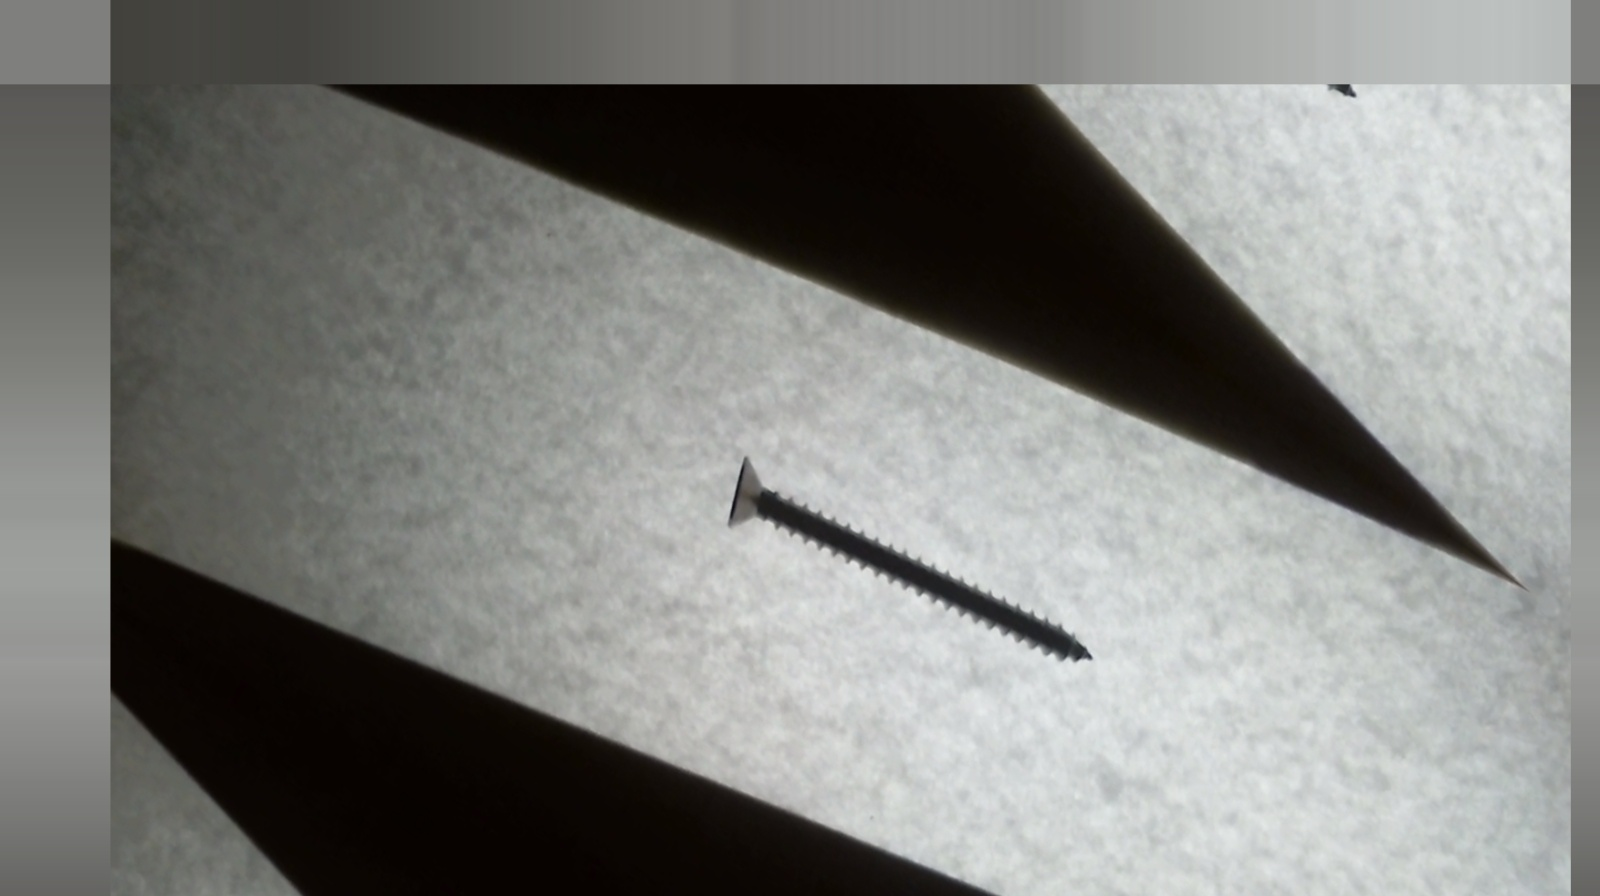S002: (707, 405, 1104, 757)
